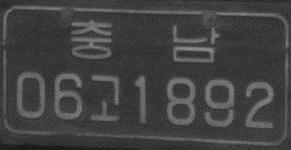0: (17, 71, 46, 119)
1: (126, 74, 157, 125)
2: (244, 79, 274, 129)
6: (53, 72, 82, 121)
8: (165, 76, 196, 126)
9: (203, 78, 235, 128)
고: (89, 73, 121, 123)
충남_D: (70, 17, 219, 63)
